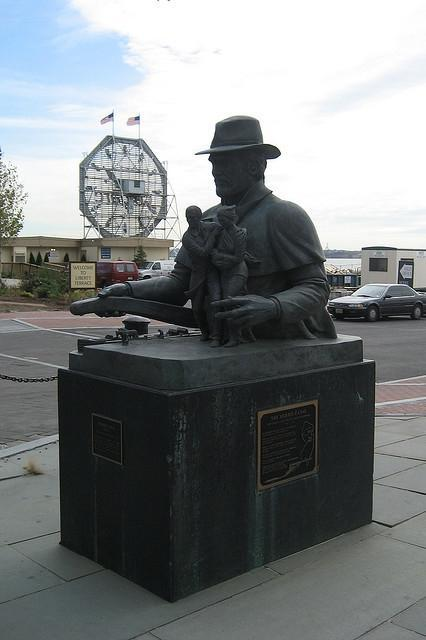car: (330, 282, 425, 322), (96, 260, 140, 288), (138, 260, 176, 278), (326, 290, 343, 311)
